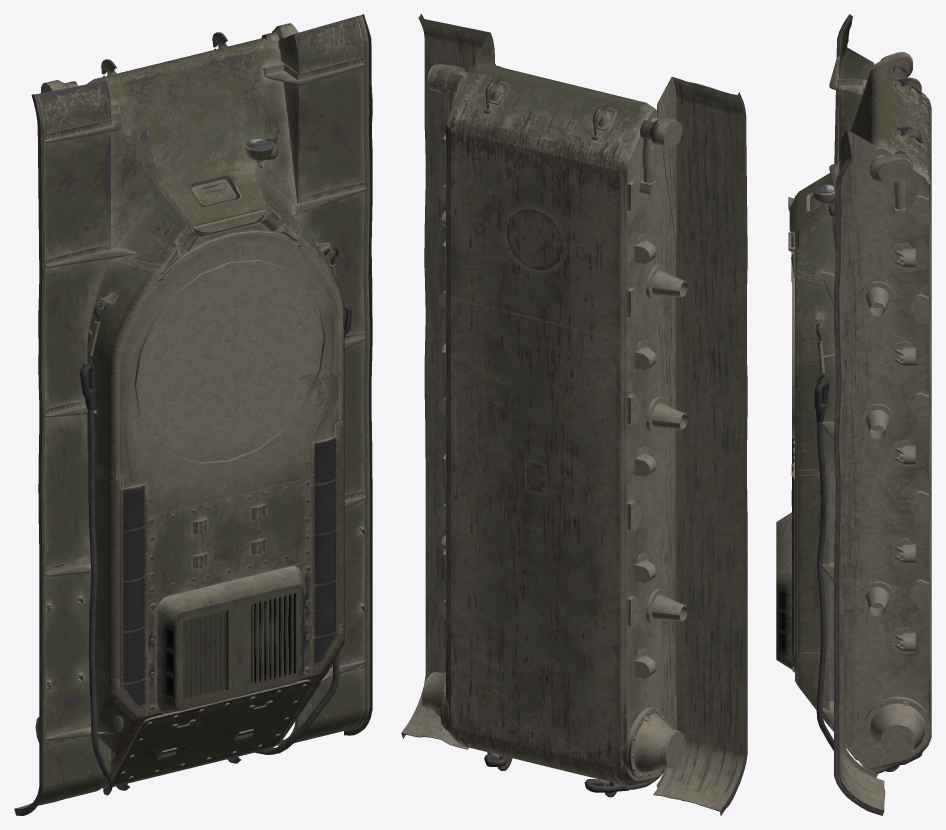
Rendered from Hull.glb.
The picture shows the model from 3 angles, left to right: view 1: azimuth 30°, elevation 25°; view 2: azimuth 150°, elevation 25°; view 3: azimuth 270°, elevation 25°; orthographic projection. The views are drawn at different scales.
Parts seen in each view (by area): view 1: set_0_group_0; view 2: set_0_group_0; view 3: set_0_group_0.
Boxes of the visible parts, left/top/right/bottom form: set_0_group_0: left=14, top=14, right=372, bottom=815; set_0_group_0: left=401, top=14, right=747, bottom=815; set_0_group_0: left=776, top=14, right=931, bottom=815.
Bounding box in the file's own units: 2.81 × 5.98 × 1.28.
Materials: 1 (1 with a texture image).
